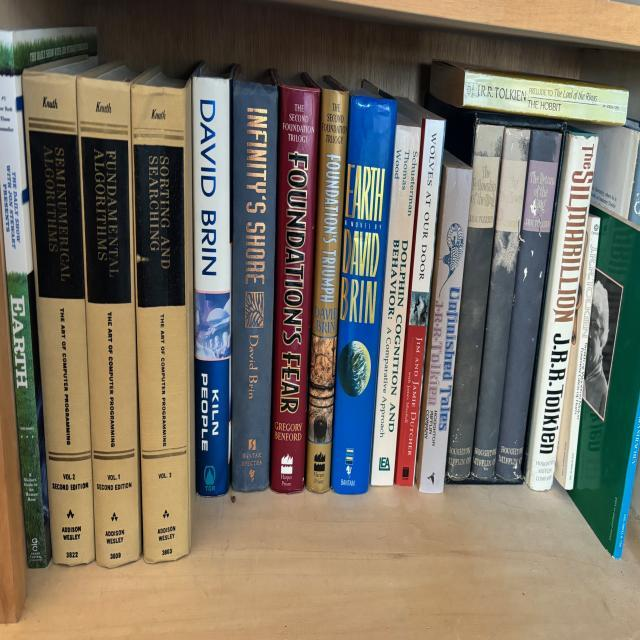book: (21, 69, 95, 569), (75, 79, 142, 567), (523, 131, 600, 492), (134, 85, 188, 564), (0, 31, 47, 564), (332, 97, 394, 493), (496, 130, 560, 477), (470, 127, 531, 480), (270, 87, 321, 491), (447, 124, 502, 479), (232, 80, 277, 494), (371, 127, 421, 485), (306, 91, 349, 495), (420, 169, 472, 492), (397, 121, 443, 484), (195, 76, 229, 497), (464, 69, 629, 124)
